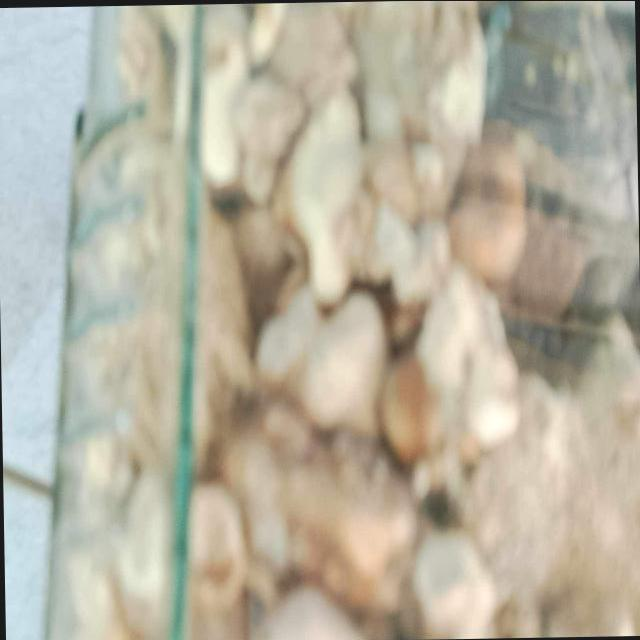General: (47, 1, 637, 638)
Sharps: (161, 3, 208, 639)
